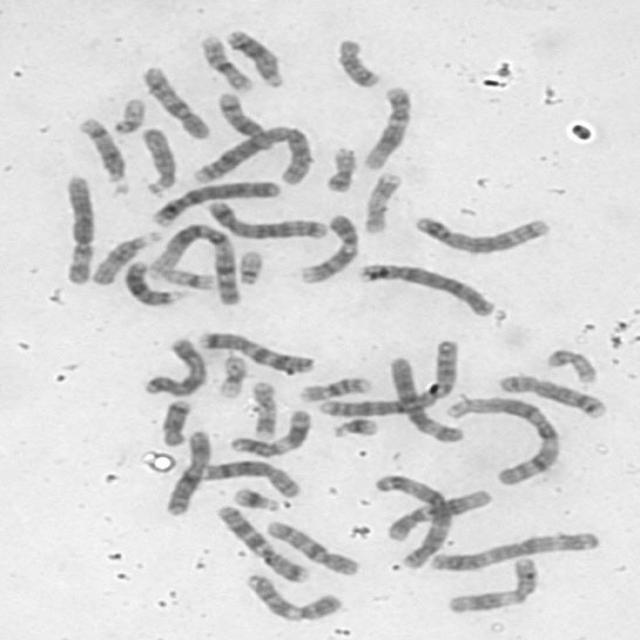A1: (441, 390, 565, 487), (144, 218, 246, 306)
A2: (314, 334, 462, 420), (189, 120, 316, 186)
A3: (368, 469, 456, 572), (422, 526, 604, 573)
B4: (353, 258, 498, 319), (146, 175, 283, 228)
B5: (408, 210, 553, 255), (201, 196, 330, 241)
C10: (261, 516, 363, 577), (136, 62, 214, 141)
C11: (439, 552, 540, 616), (224, 404, 314, 459)
C12: (382, 484, 496, 542), (358, 80, 415, 172)
C6: (384, 351, 470, 444), (58, 170, 98, 286)
C7: (210, 498, 312, 584), (193, 326, 318, 376)
C8: (493, 368, 611, 421), (196, 454, 305, 499)
C9: (240, 569, 348, 623), (294, 209, 362, 286)
D13: (220, 24, 288, 90), (120, 255, 189, 307)
D14: (73, 110, 131, 196), (213, 86, 271, 146)
D15: (85, 226, 163, 286), (135, 122, 181, 196)
E16: (194, 29, 255, 94), (295, 372, 373, 404)
E17: (357, 167, 404, 236), (245, 377, 282, 439)
E18: (331, 33, 385, 89), (155, 395, 195, 447)
F19: (212, 350, 250, 400), (158, 263, 218, 293)
F20: (542, 344, 602, 384), (320, 141, 360, 194)
G21: (227, 482, 283, 512), (326, 412, 382, 440)
G22: (107, 93, 148, 135), (232, 244, 266, 286)
X: (157, 425, 214, 517), (139, 332, 210, 398)
